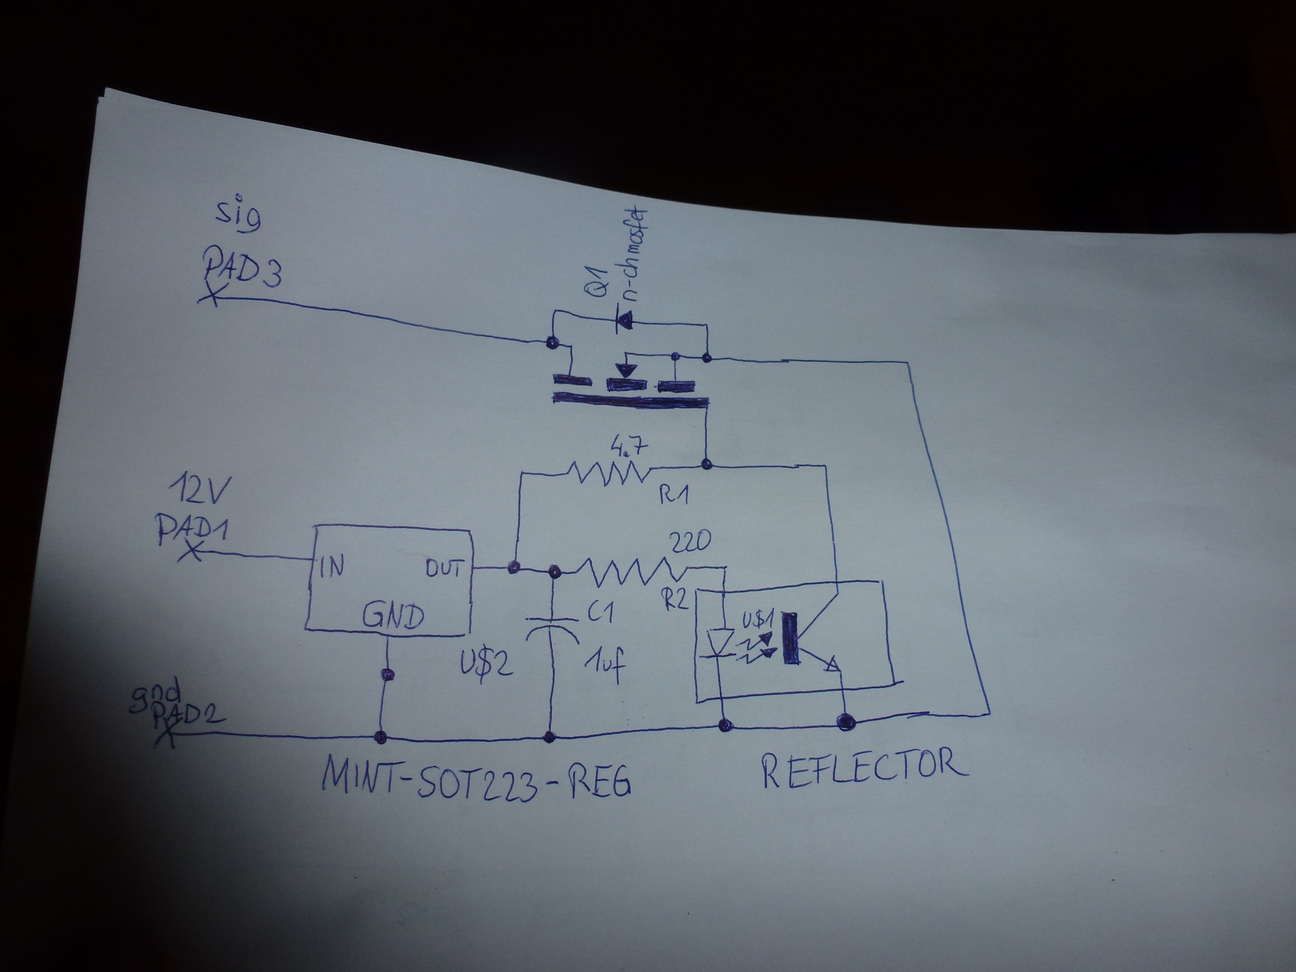capacitor.unpolarized: (522, 613, 581, 646)
diode: (612, 300, 636, 337)
integrated_circuit: (690, 574, 908, 709)
junction: (834, 709, 858, 733), (714, 715, 736, 736), (503, 557, 527, 577), (369, 727, 391, 747), (543, 561, 564, 581), (540, 728, 559, 746), (544, 333, 562, 352), (978, 704, 997, 722), (897, 354, 915, 372), (698, 455, 714, 473), (699, 349, 713, 364), (516, 465, 529, 480), (700, 319, 713, 330), (719, 562, 730, 572), (819, 460, 830, 470), (550, 306, 560, 315)
optocoupler: (698, 588, 846, 678)
resistor: (569, 552, 686, 589), (559, 456, 655, 491)
terminal: (149, 717, 183, 748), (194, 280, 228, 309), (175, 537, 206, 564)
text: (320, 751, 633, 806), (757, 743, 973, 793), (195, 243, 284, 293), (613, 202, 650, 303), (151, 511, 231, 549), (164, 469, 234, 506), (126, 673, 182, 716), (148, 701, 229, 731), (457, 644, 514, 682), (362, 597, 425, 631), (212, 196, 263, 236), (581, 644, 629, 682), (667, 527, 713, 556), (579, 262, 612, 300), (605, 430, 648, 459), (655, 478, 691, 508), (583, 596, 618, 625), (421, 556, 463, 579), (659, 584, 689, 613), (318, 552, 347, 581), (739, 606, 774, 628)
transistor: (547, 338, 713, 412)
voltage.dc_regulator: (296, 519, 479, 642)
